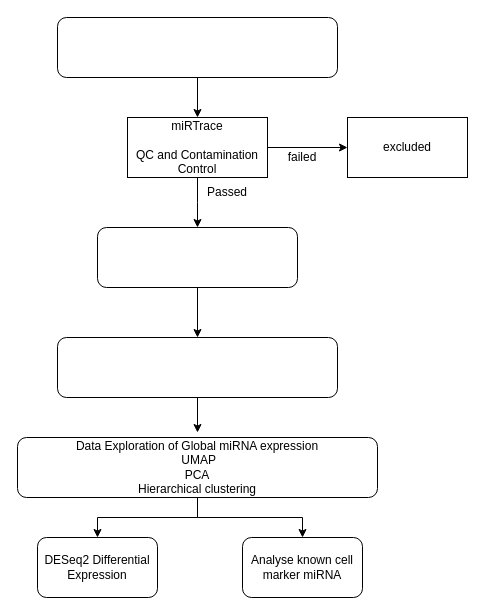
Some shapes in this 485 by 615 pixel diagram are drawn without their labels. Each missing label, with the centre of its shape:
"Count Matrix" goes at (197,367).
"meRge3.0 Reference: MirGeneDB Human miRNA genes" goes at (197,257).
"Raw sequencing data (FASTQ)" goes at (197,47).
